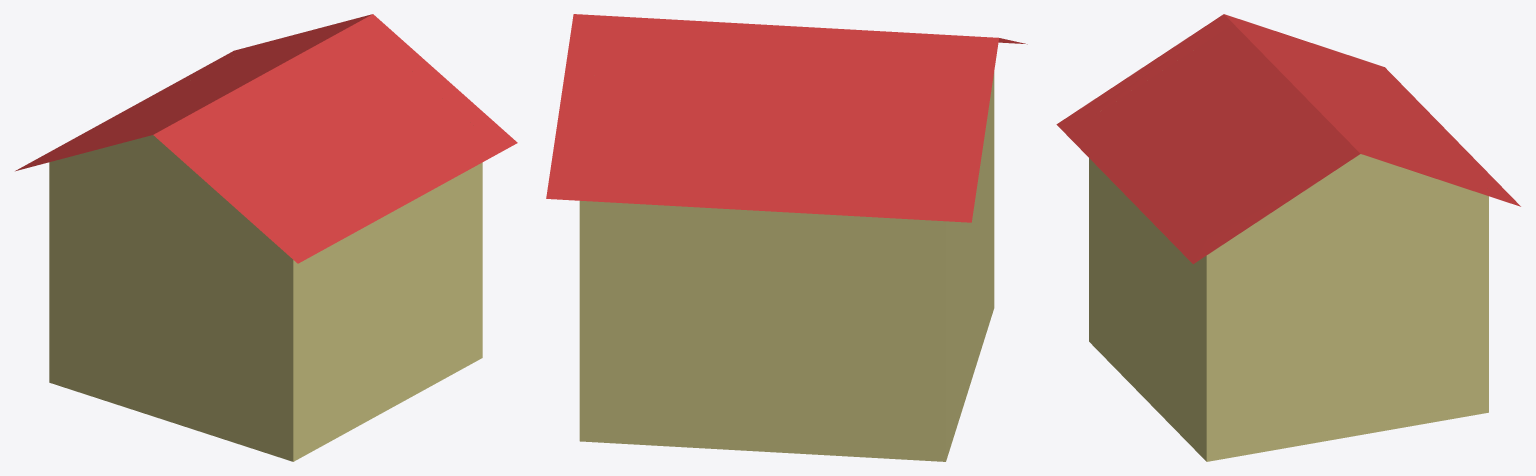
The picture shows the model from 3 angles, left to right: view 1: azimuth 30°, elevation 25°; view 2: azimuth 150°, elevation 25°; view 3: azimuth 270°, elevation 25°; orthographic projection. The views are drawn at different scales.
Bounding box in the file's own units: 13.99 × 13.95 × 9.68.
